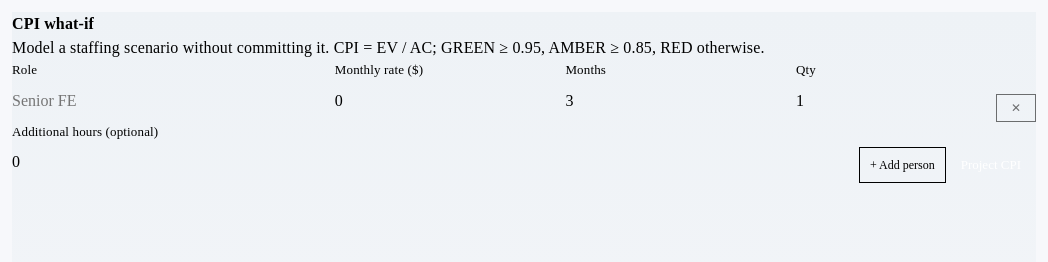
Scenario: CpiWhatIfCard (LEAN-P4-missing-7) › adds and removes scenario rows
What coordinates should you click on to do the following:
click the button with test id "cpi-add-row"
I would click on:
 (902, 165)
Its box is left=859, top=147, right=946, bottom=183.
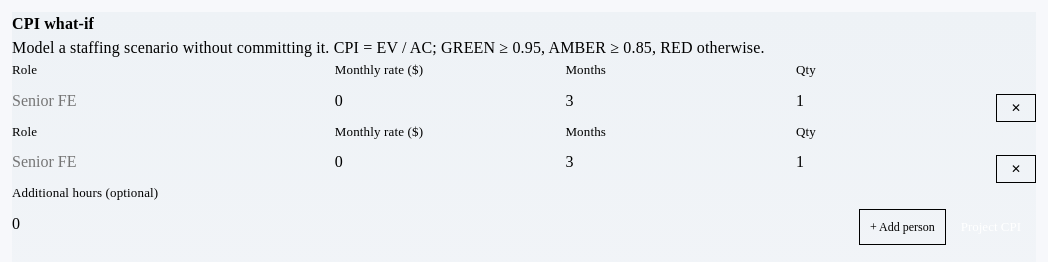
Check: the field with test id "cpi-row-role-1" is shown, box left=12, top=141, right=335, bottom=183
What coordinates should you click on to do the following:
click the button with test id "cpi-row-remove-1"
I would click on:
 (1016, 169)
Its box is left=996, top=155, right=1036, bottom=183.
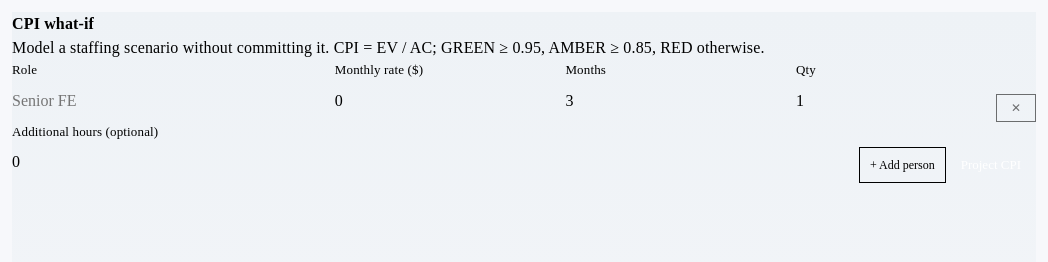
Check: the field with test id "cpi-row-role-1" is gone
